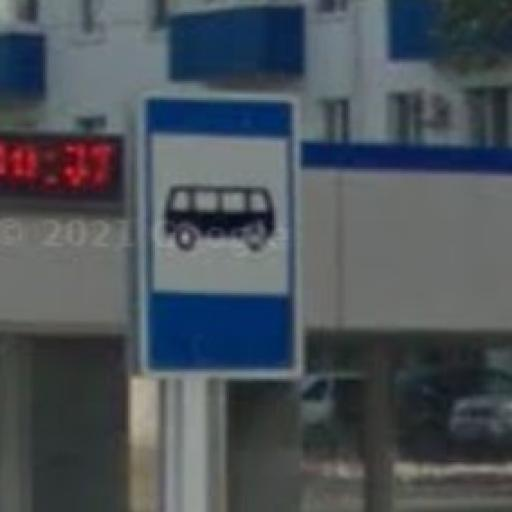traffic_sign: (136, 91, 309, 386)
